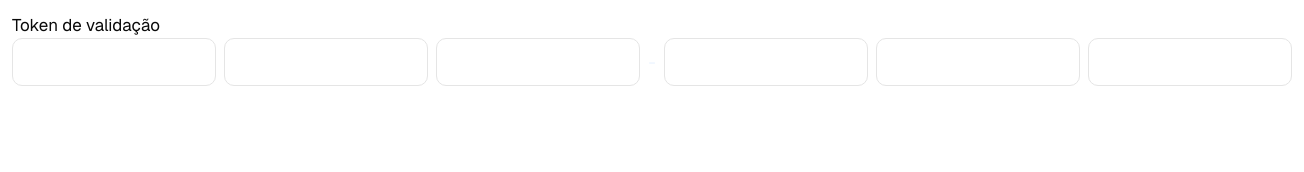
Scenario: RegisterTokenDigitInputs › avança foco ao digitar dígito
This screenshot has width=1304, height=172.
Type "1" into the field named "Dígito 1 de 6" at (114, 62), box [12, 38, 216, 86]
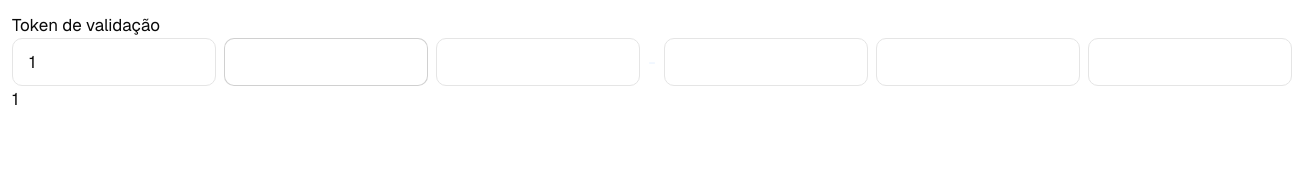
Now the text with test id "current-value" reads "1", box [12, 88, 18, 110]
